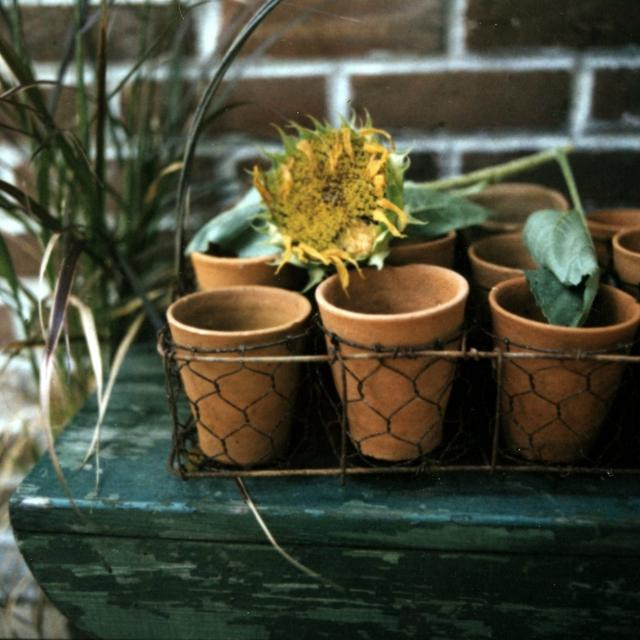Flower: (238, 104, 430, 296)
